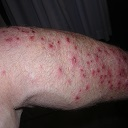Actinic: (71, 51, 124, 89), (34, 33, 61, 49)
